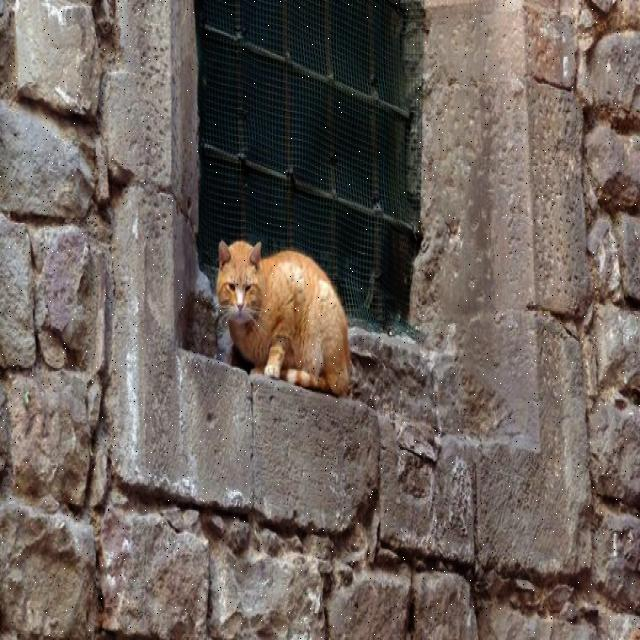cat: (218, 240, 351, 395)
